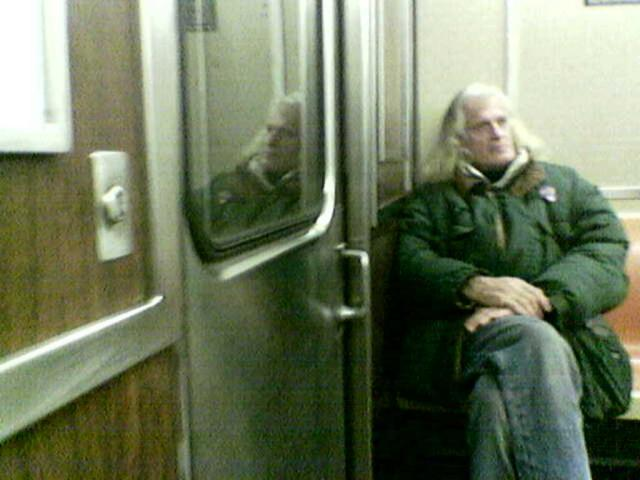Door-handle: (333, 241, 373, 327)
